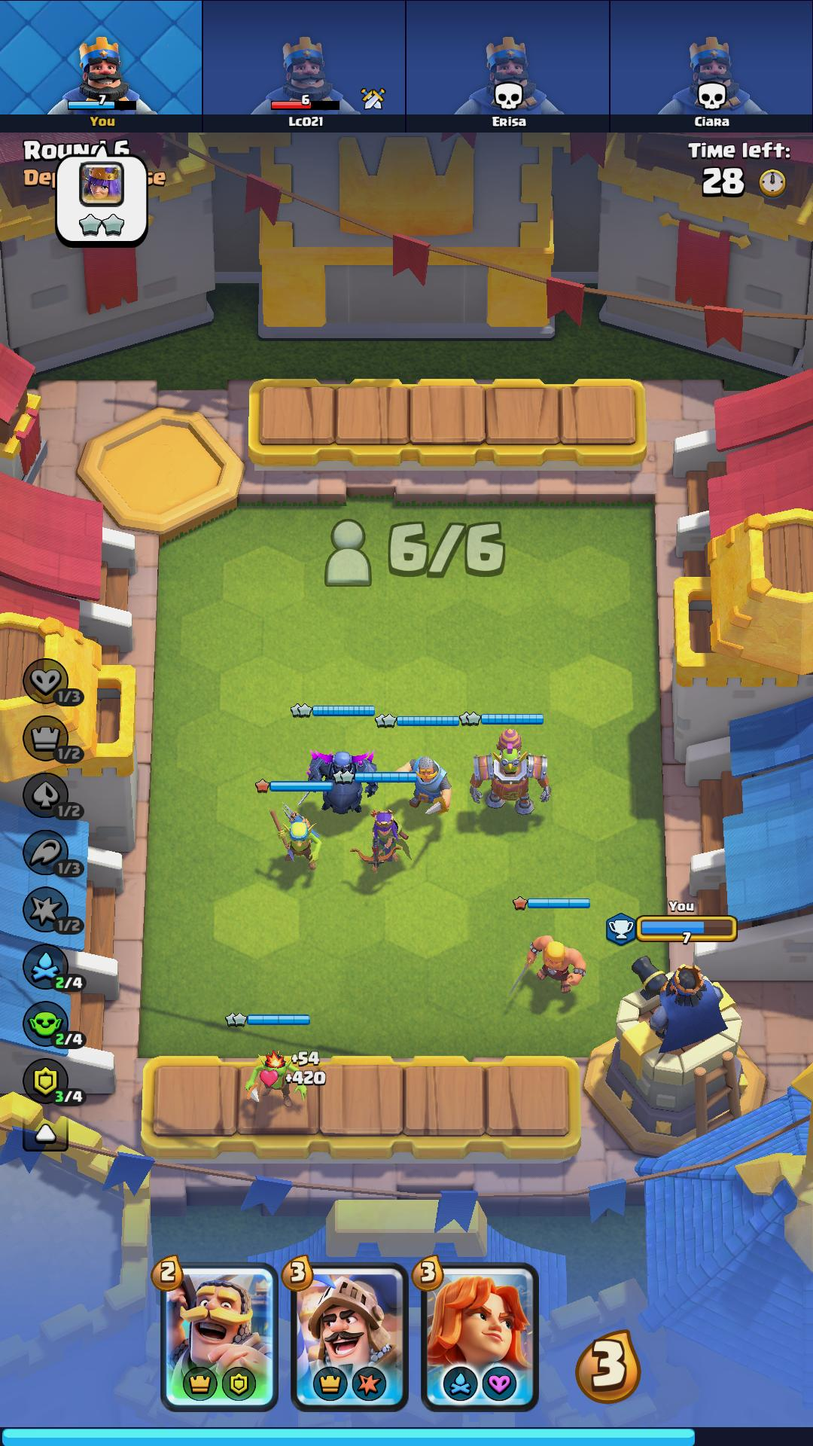barbarian: (514, 926, 597, 1000)
hand-knight: (163, 1267, 274, 1410)
hand-prince: (294, 1267, 405, 1407)
hand-valkyrie: (419, 1270, 537, 1411)
knight: (395, 747, 455, 823)
machine: (462, 724, 558, 828)
pekka: (295, 741, 393, 818)
queen: (346, 803, 414, 876)
spear: (253, 801, 330, 872)
